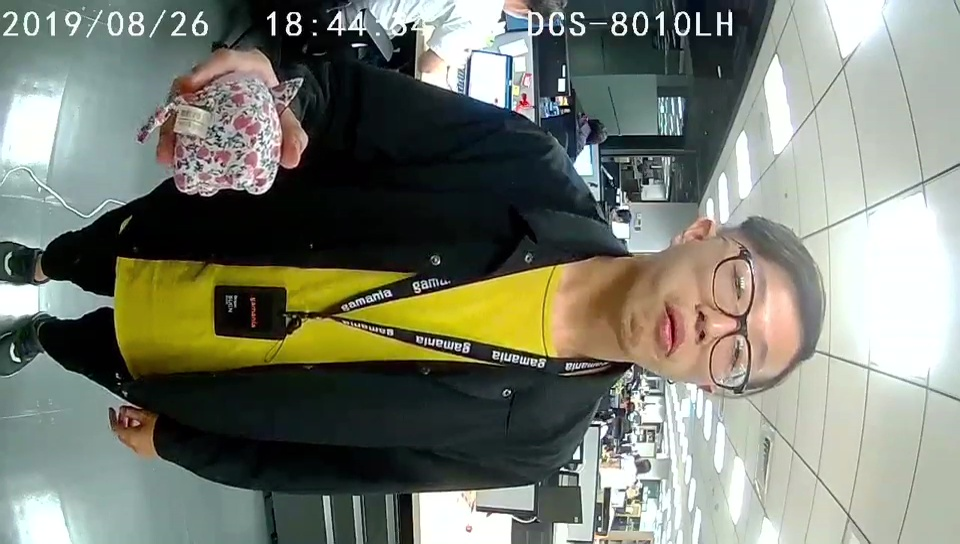pig: (169, 70, 303, 201)
